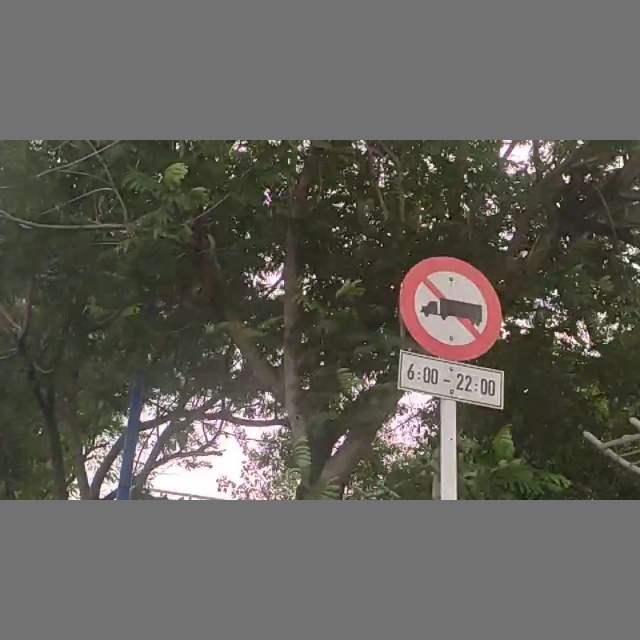B.8a: (388, 253, 513, 403)
